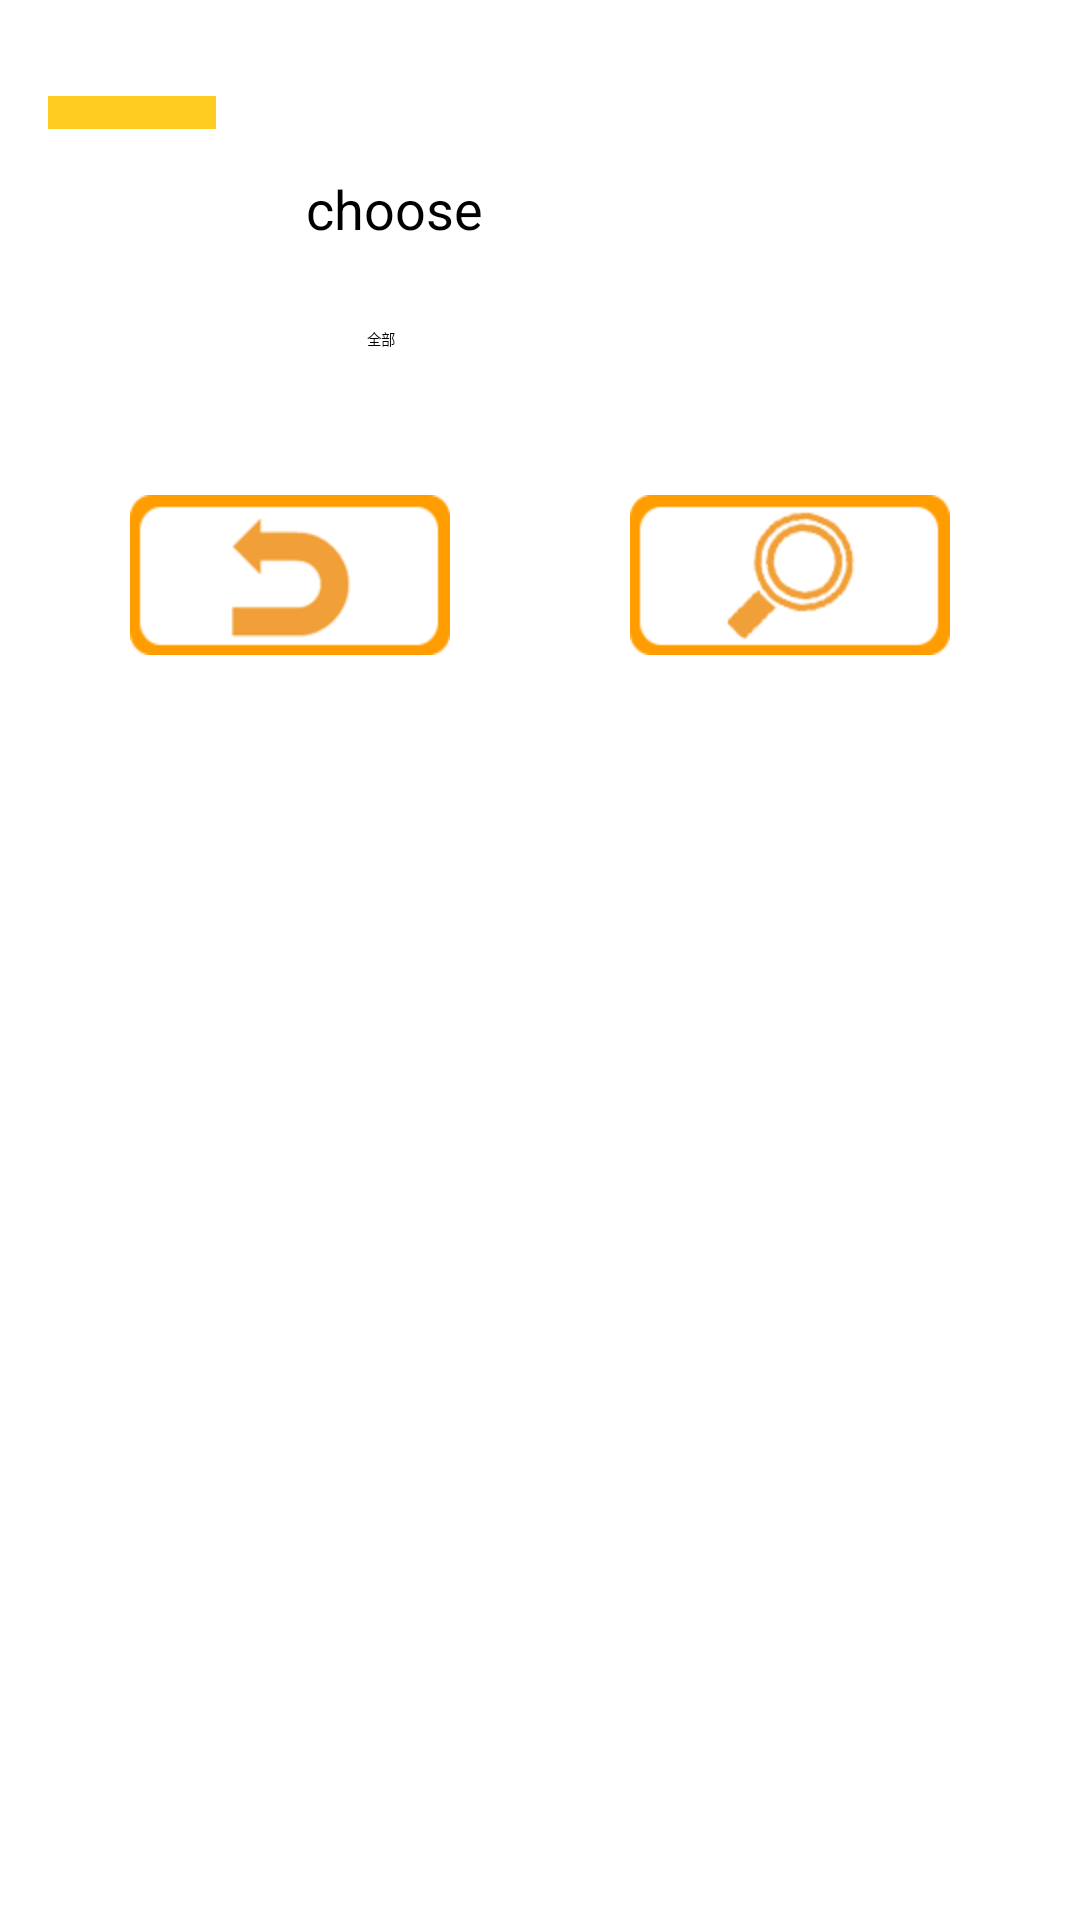

Screen size 1080px x 1920px. Icon name, then its center in pixels as point (x, y):
return click: point (290, 575)
seasrch click: point (790, 575)
